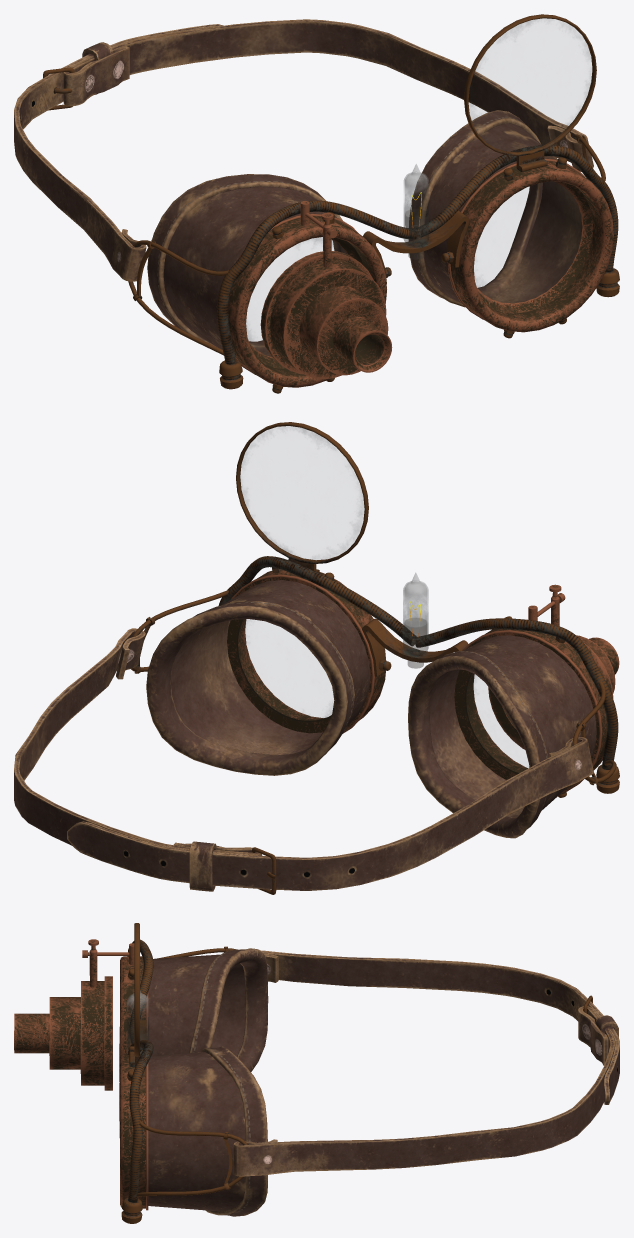
The picture shows the model from 3 angles, top to bottom: view 1: azimuth 30°, elevation 25°; view 2: azimuth 150°, elevation 25°; view 3: azimuth 270°, elevation 25°; orthographic projection. The views are drawn at different scales.
Parts seen in each view (by area): view 1: Leather_low, Strap_low, Rounds_low, Scope_low, Pipes_low, MeasureHolder_low, Nose_low, Lamp_low, Glass_low, handle_low, Measure_low, End_low (+1 smaller); view 2: Leather_low, Strap_low, Rounds_low, Pipes_low, MeasureHolder_low, Lamp_low, Glass_low, Nose_low, Scope_low, Measure_low, handle_low, Loop_low; view 3: Leather_low, Strap_low, Scope_low, Rounds_low, Pipes_low, handle_low, MeasureHolder_low, Lamp_low, End_low.
Part boxes in pixels (x1=…): Leather_low: x1=147, y1=110, x2=582, y2=356; Strap_low: x1=14, y1=19, x2=593, y2=281; Rounds_low: x1=228, y1=158, x2=613, y2=387; Scope_low: x1=260, y1=251, x2=392, y2=379; Pipes_low: x1=217, y1=145, x2=618, y2=364; MeasureHolder_low: x1=464, y1=14, x2=596, y2=171; Nose_low: x1=363, y1=210, x2=469, y2=283; Lamp_low: x1=404, y1=164, x2=428, y2=259; Glass_low: x1=246, y1=181, x2=581, y2=356; handle_low: x1=128, y1=134, x2=605, y2=355; Measure_low: x1=469, y1=19, x2=591, y2=151; End_low: x1=219, y1=268, x2=619, y2=389; Leather_low: x1=146, y1=580, x2=596, y2=838; Strap_low: x1=14, y1=628, x2=593, y2=890; Rounds_low: x1=227, y1=570, x2=607, y2=793; Pipes_low: x1=218, y1=556, x2=618, y2=769; MeasureHolder_low: x1=236, y1=422, x2=368, y2=573; Lamp_low: x1=403, y1=572, x2=428, y2=668; Glass_low: x1=237, y1=619, x2=528, y2=773; Nose_low: x1=362, y1=618, x2=468, y2=676; Scope_low: x1=488, y1=635, x2=619, y2=749; Measure_low: x1=240, y1=426, x2=363, y2=559; handle_low: x1=131, y1=590, x2=616, y2=783; Loop_low: x1=189, y1=841, x2=216, y2=891; Leather_low: x1=148, y1=948, x2=268, y2=1216; Strap_low: x1=233, y1=949, x2=619, y2=1176; Scope_low: x1=14, y1=976, x2=112, y2=1090; Rounds_low: x1=119, y1=956, x2=148, y2=1210; Pipes_low: x1=128, y1=939, x2=153, y2=1202; handle_low: x1=137, y1=948, x2=247, y2=1197; MeasureHolder_low: x1=129, y1=923, x2=139, y2=1066; Lamp_low: x1=127, y1=990, x2=148, y2=1053; End_low: x1=121, y1=1198, x2=142, y2=1223.
Size of the model in its own units: 602 by 387 by 760.
4 materials, 4 textured.
